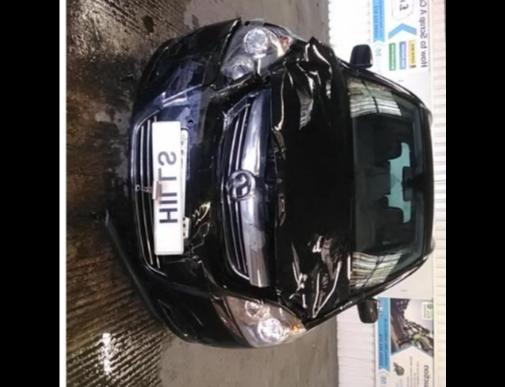Broken part: (95, 14, 288, 349), (261, 34, 356, 328), (215, 86, 277, 286), (217, 22, 297, 80)
Dent: (275, 225, 342, 322), (277, 40, 332, 133), (283, 46, 335, 130), (184, 218, 211, 253), (188, 200, 213, 232), (331, 288, 342, 310)
